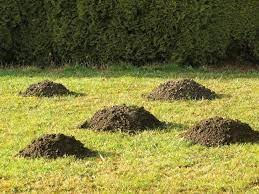dirt: (184, 117, 254, 144), (87, 105, 158, 131), (22, 133, 86, 156), (152, 79, 210, 98), (27, 79, 66, 94)
grass: (2, 157, 257, 192), (1, 94, 84, 132), (77, 70, 149, 103), (87, 132, 182, 156), (216, 72, 256, 116), (153, 101, 214, 117), (0, 70, 25, 93)
